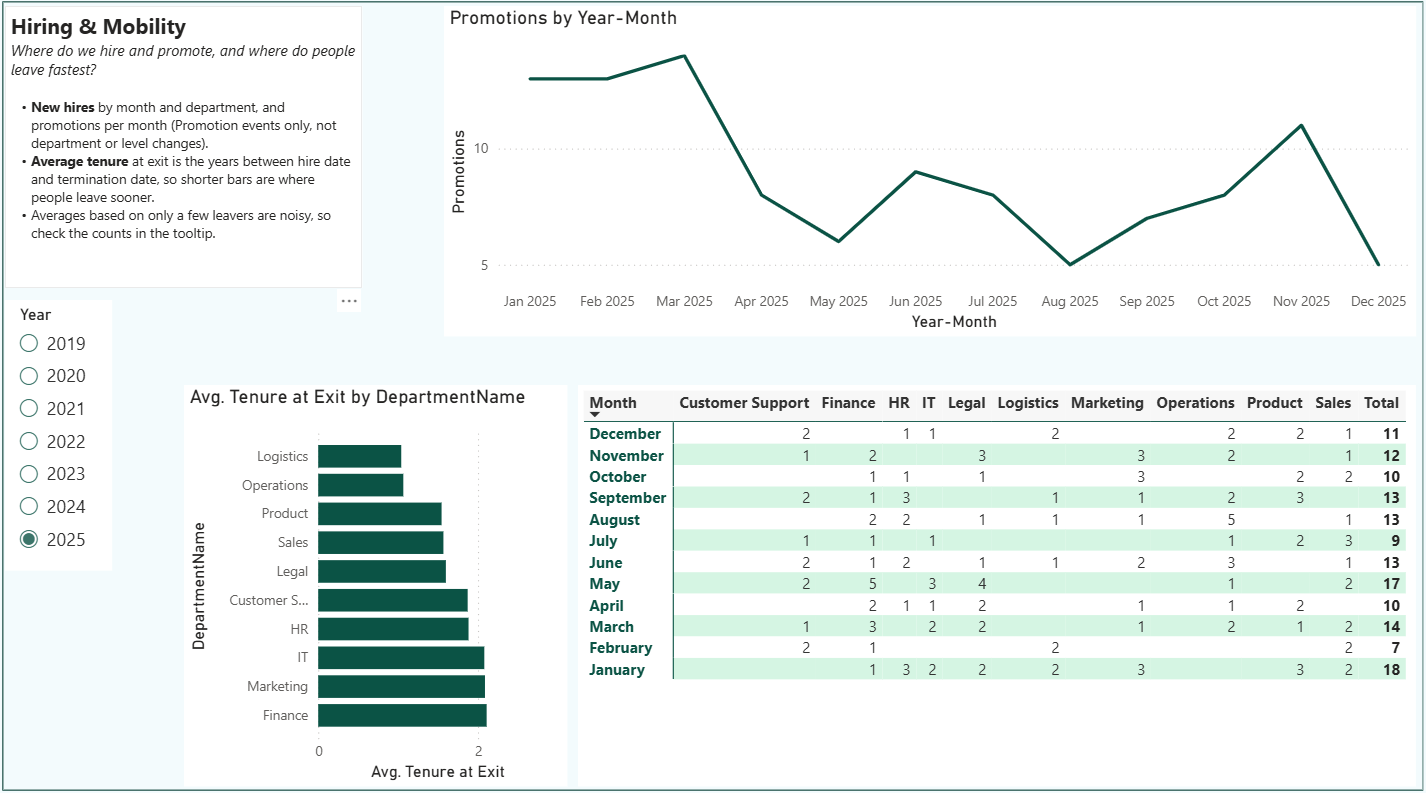

The dashboard page shown, as its layout file describes it:
{"tool":"powerbi","page":{"name":"Hiring & Mobility","canvas":[1280,720],"ordinal":3},"visuals":[{"type":"shape","box":[0,0,1280.4,720],"z":0},{"type":"pivotTable","fields":{"Rows":["Calendar.Month"],"Values":["(_Measures).New Hires"],"Columns":["dim_department.DepartmentName"]},"box":[520.5,350.2,743.1,355.6],"z":1000},{"type":"slicer","fields":{"Values":["Calendar.Year"]},"box":[12.4,275,95,240],"z":2000},{"type":"lineChart","fields":{"Y":["(_Measures).Promotions"],"Category":["Calendar.Year-Month"]},"box":[401.7,14.2,862,293],"z":3000},{"type":"barChart","fields":{"Category":["dim_department.DepartmentName"],"Y":["(_Measures).Avg. Tenure at Exit"]},"box":[171.1,350.2,340.5,355.6],"z":4000},{"type":"textbox","box":[12.4,14.2,316.9,249.7],"z":5000}]}

Visuals, with their boxes in screenshot pixels (x1, y1, x2, y2), scaled from the page's 1280x720 canvas onto the 1426x793 screenshot:
shape: {"left": 0, "top": 0, "right": 1425, "bottom": 792}
pivotTable - Calendar.Month x (_Measures).New Hires: {"left": 580, "top": 386, "right": 1408, "bottom": 777}
slicer - Calendar.Year: {"left": 14, "top": 303, "right": 120, "bottom": 567}
lineChart - (_Measures).Promotions x Calendar.Year-Month: {"left": 448, "top": 16, "right": 1408, "bottom": 338}
barChart - dim_department.DepartmentName x (_Measures).Avg. Tenure at Exit: {"left": 191, "top": 386, "right": 570, "bottom": 777}
textbox: {"left": 14, "top": 16, "right": 367, "bottom": 291}
